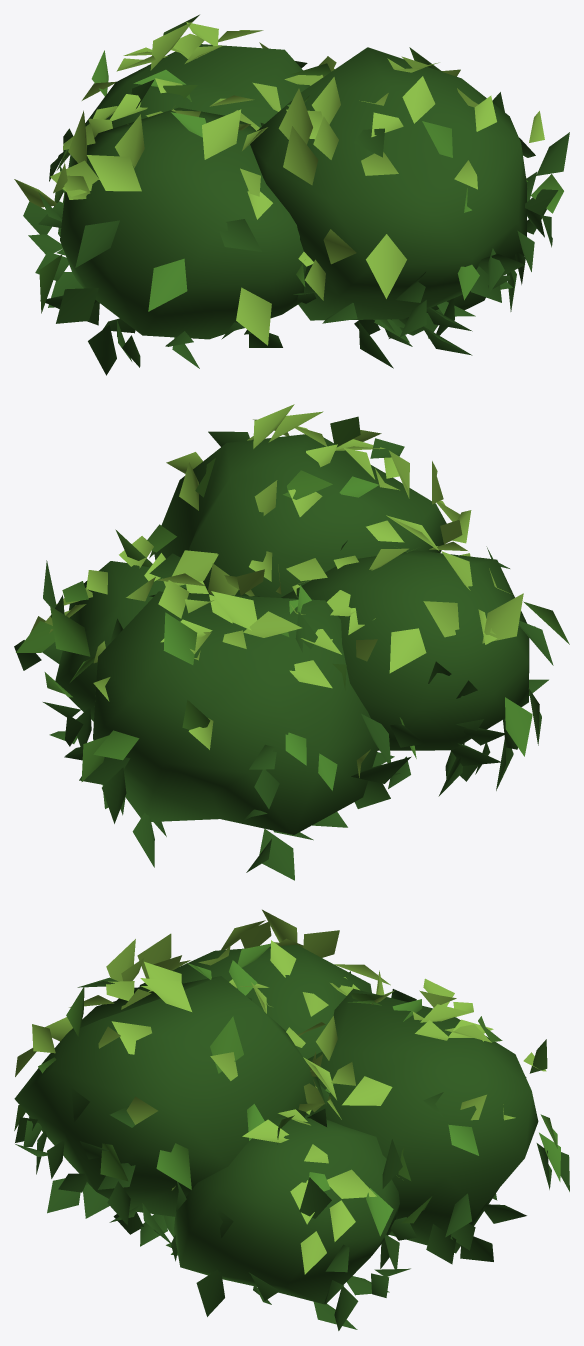
The model's file is PLANT_Bush_MD.glb.
3 renders of one model, top to bottom at view 1: azimuth 30°, elevation 25°; view 2: azimuth 150°, elevation 25°; view 3: azimuth 270°, elevation 25°, orthographic. The views are drawn at different scales.
Parts seen in each view (by area): view 1: PLANT_Bush_MD; view 2: PLANT_Bush_MD; view 3: PLANT_Bush_MD.
Boxes of the visible parts, x1,y1,x2,y2 form: PLANT_Bush_MD: (14,14,569,375); PLANT_Bush_MD: (14,404,569,880); PLANT_Bush_MD: (14,909,569,1330).
Size of the model in its own units: 2.07 by 1.32 by 2.08.
